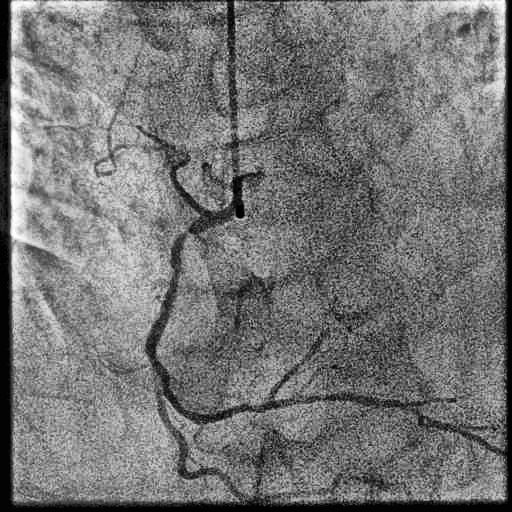pborca: (272, 323, 329, 398)
pda: (272, 392, 498, 452)
rca: (145, 209, 273, 424)
